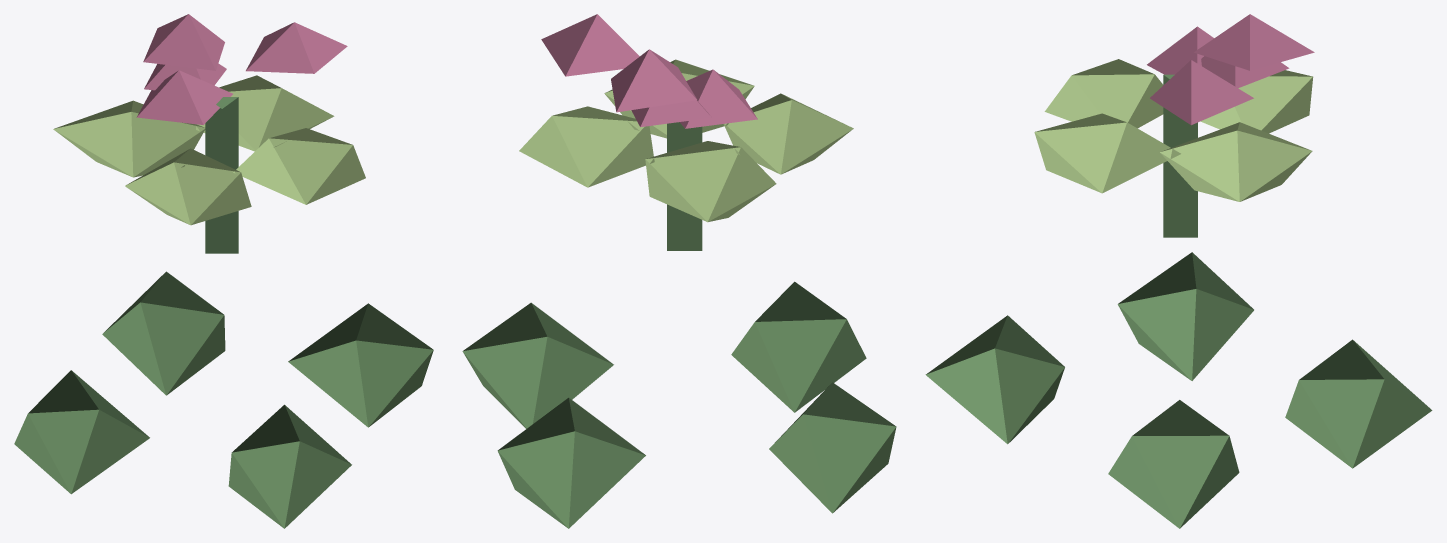
File: water.trop.lotus__bloom.glb
3 views of the same model, side by side, from view 1: azimuth 30°, elevation 25°; view 2: azimuth 150°, elevation 25°; view 3: azimuth 270°, elevation 25° (orthographic). The views are drawn at different scales.
Parts seen in each view (by area): view 1: water.trop.lotus__bloom; view 2: water.trop.lotus__bloom; view 3: water.trop.lotus__bloom.
Part boxes in pixels (x1,y1,x2,y2): water.trop.lotus__bloom: [14, 14, 433, 528]; water.trop.lotus__bloom: [462, 14, 896, 528]; water.trop.lotus__bloom: [925, 14, 1432, 528].
Size of the model in its own units: 1.09 by 1.07 by 1.12.
